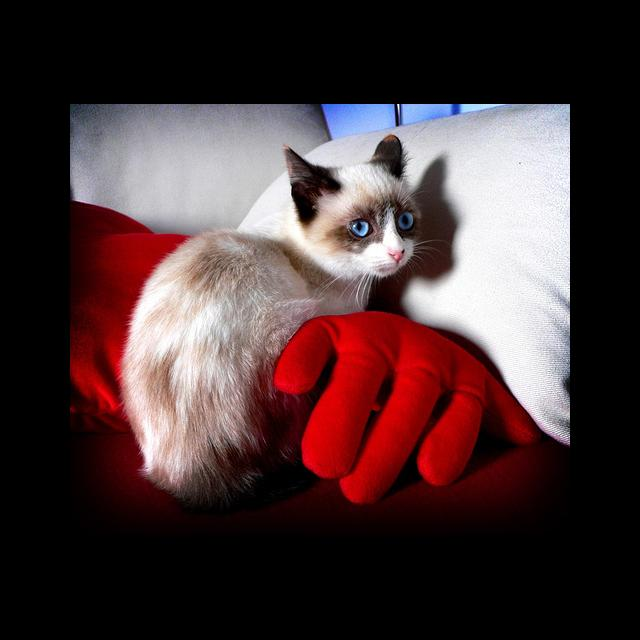animals: (283, 134, 407, 260)
